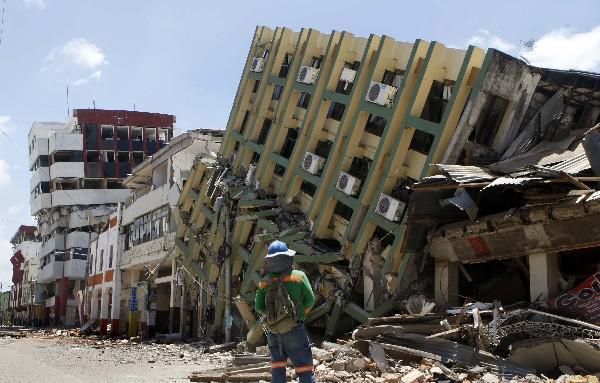destroyed: (179, 27, 600, 356), (26, 91, 185, 331)
